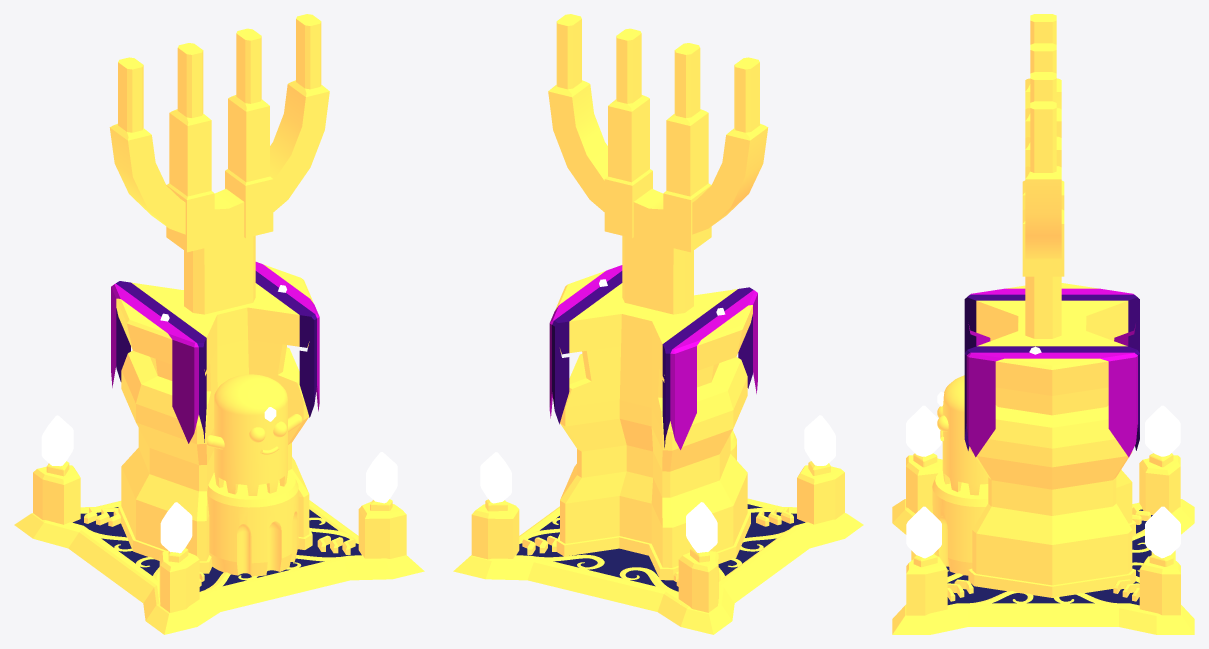
Rendered from 7_aaltar_LE_7.fbx.
The picture shows the model from 3 angles, left to right: view 1: azimuth 30°, elevation 25°; view 2: azimuth 150°, elevation 25°; view 3: azimuth 270°, elevation 25°; orthographic projection.
Visible parts, largest first — view 1: aaltar_LE_7; view 2: aaltar_LE_7; view 3: aaltar_LE_7.
Boxes of the visible parts, box(x1,y1,x2,y2) form: aaltar_LE_7: box(14, 14, 424, 634); aaltar_LE_7: box(453, 14, 863, 634); aaltar_LE_7: box(892, 14, 1194, 634).
Size of the model in its own units: 78.77 by 146 by 78.73.
